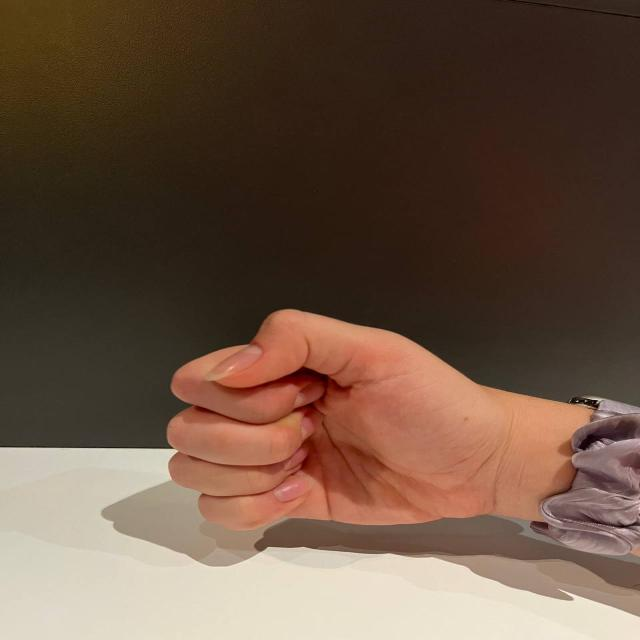a: (151, 293, 498, 537)
